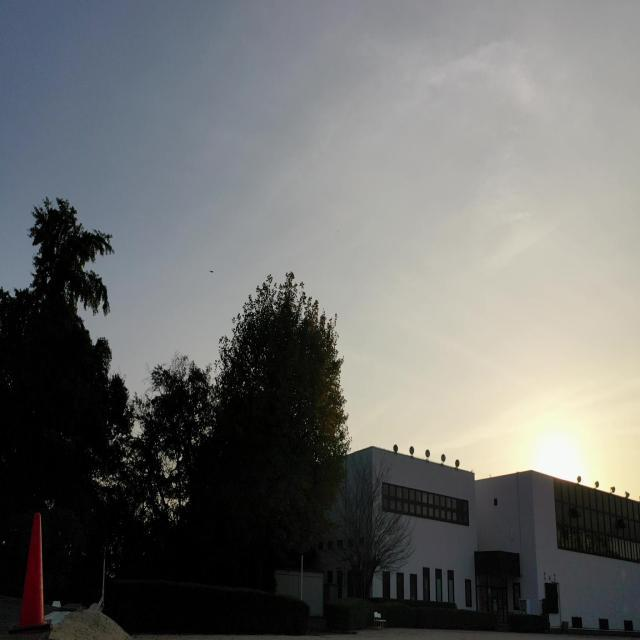Birds: (204, 262, 218, 280)
